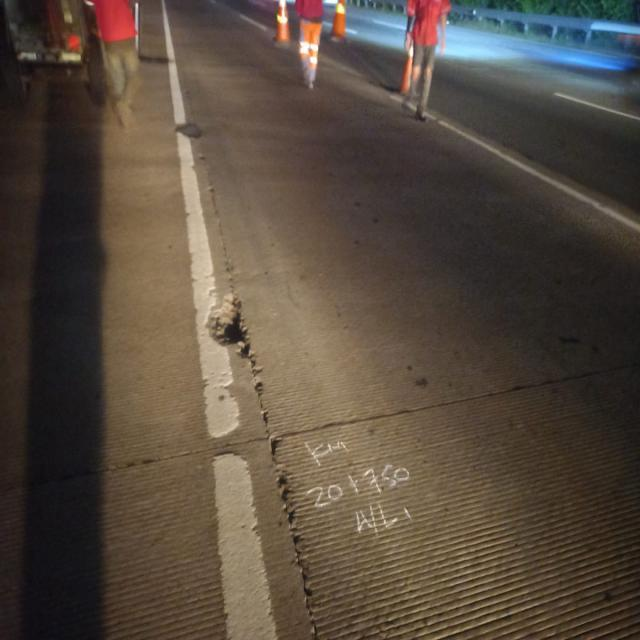Buraco: (202, 289, 260, 362)
